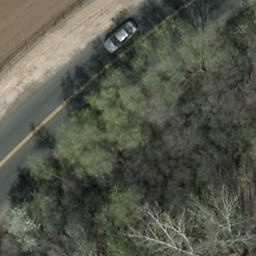car: (102, 21, 140, 56)
